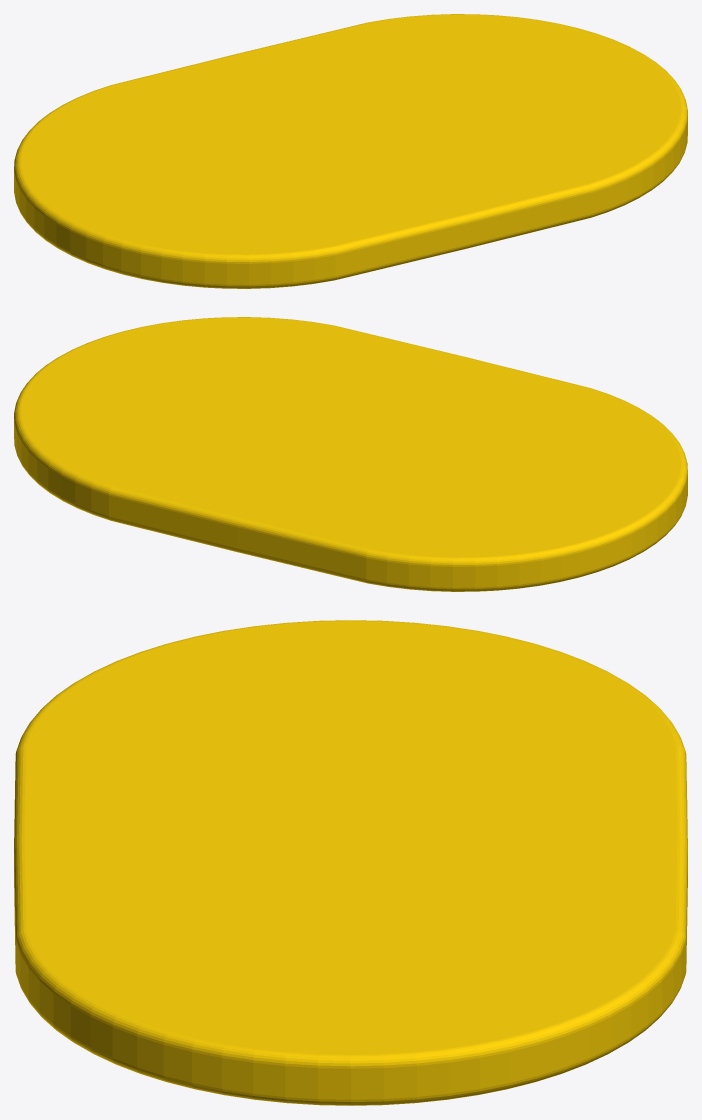
The model's file is Tag.glb.
3 renders of one model, top to bottom at view 1: azimuth 30°, elevation 25°; view 2: azimuth 150°, elevation 25°; view 3: azimuth 270°, elevation 25°, orthographic. The views are drawn at different scales.
Parts seen in each view (by area): view 1: Circle; view 2: Circle; view 3: Circle.
Part boxes in pixels (x1=…): Circle: x1=14, y1=14, x2=687, y2=288; Circle: x1=14, y1=317, x2=687, y2=591; Circle: x1=14, y1=620, x2=687, y2=1105.
Bounding box in the file's own units: 5.97 × 0.3141 × 3.84.
